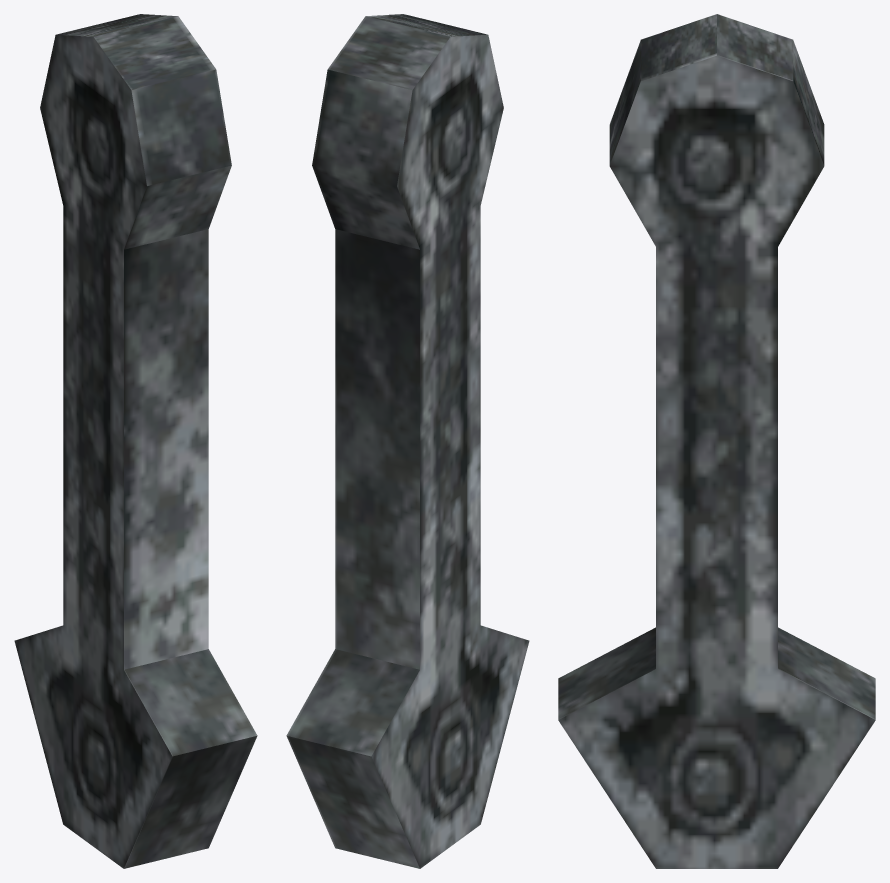
Rendered from INST_PUZZLE_PIECE4_PIECE4_SILVER.fbx.
3 views of the same model, side by side, from view 1: azimuth 30°, elevation 25°; view 2: azimuth 150°, elevation 25°; view 3: azimuth 270°, elevation 25° (orthographic).
Parts seen in each view (by area): view 1: INST_PUZZLE_PIECE4_PIECE4_SILVER; view 2: INST_PUZZLE_PIECE4_PIECE4_SILVER; view 3: INST_PUZZLE_PIECE4_PIECE4_SILVER.
Boxes of the visible parts, x1=… form: INST_PUZZLE_PIECE4_PIECE4_SILVER: x1=14, y1=14, x2=257, y2=868; INST_PUZZLE_PIECE4_PIECE4_SILVER: x1=286, y1=14, x2=529, y2=868; INST_PUZZLE_PIECE4_PIECE4_SILVER: x1=558, y1=14, x2=875, y2=868.
Bounding box in the file's own units: 425 × 3867 × 1369.
1 material, 1 textured.
